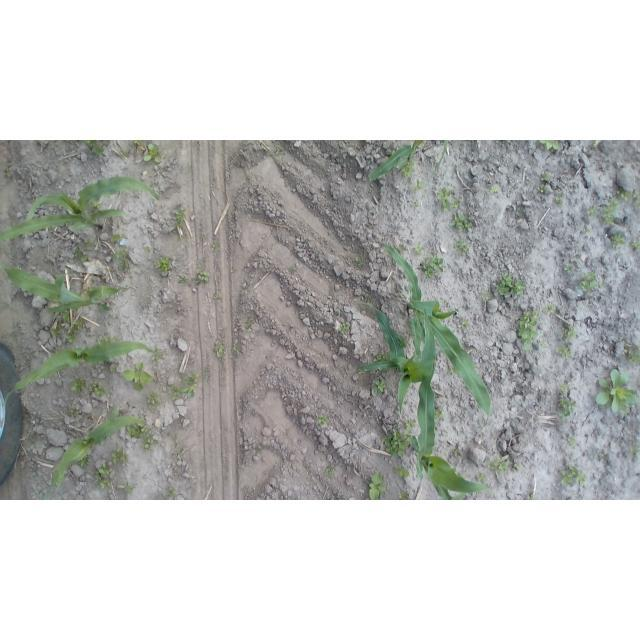Maize: (380, 243, 492, 429), (412, 348, 492, 500), (0, 176, 160, 243), (42, 406, 147, 500), (354, 300, 437, 415), (4, 341, 153, 403), (0, 263, 128, 313), (367, 141, 447, 182), (75, 141, 105, 154)
Weeds: (596, 369, 639, 415), (381, 427, 411, 458), (123, 362, 153, 392), (519, 310, 540, 351), (577, 271, 607, 293), (496, 274, 526, 296), (363, 472, 386, 500), (422, 252, 445, 280), (560, 464, 589, 485), (437, 187, 459, 212), (177, 373, 198, 398), (601, 197, 619, 226), (487, 455, 509, 477), (451, 212, 474, 233), (114, 244, 131, 272), (94, 463, 110, 489), (558, 398, 576, 421), (623, 340, 640, 364), (127, 422, 150, 438), (143, 143, 162, 162), (156, 255, 173, 276), (90, 380, 109, 398), (557, 325, 576, 343), (70, 376, 86, 397), (142, 433, 158, 451), (111, 448, 129, 464), (539, 140, 560, 152), (174, 209, 186, 230), (402, 158, 414, 178), (172, 433, 182, 457), (74, 247, 89, 262), (196, 269, 211, 284), (86, 200, 102, 214), (455, 240, 469, 256), (151, 346, 163, 364), (556, 345, 571, 359), (372, 379, 386, 394), (610, 234, 626, 247), (70, 318, 85, 331), (404, 419, 416, 435), (412, 179, 426, 192), (617, 189, 632, 201), (168, 385, 180, 400), (372, 352, 390, 362), (111, 232, 127, 243), (148, 392, 159, 408), (124, 482, 137, 495), (98, 336, 119, 344), (413, 241, 425, 255), (435, 407, 446, 422), (395, 467, 410, 478), (84, 284, 97, 296), (554, 192, 564, 207), (51, 324, 63, 336), (78, 455, 90, 467), (316, 414, 328, 426), (633, 189, 640, 209), (559, 382, 570, 394), (339, 322, 350, 334), (62, 308, 71, 322), (215, 343, 224, 357), (477, 473, 488, 484), (274, 145, 285, 156), (448, 365, 460, 375), (324, 466, 334, 478), (459, 320, 470, 330), (587, 207, 597, 218), (65, 333, 76, 343), (395, 243, 405, 254), (630, 442, 639, 454), (545, 303, 555, 313), (70, 405, 79, 416), (568, 436, 577, 447), (565, 264, 575, 273), (630, 240, 640, 249), (537, 184, 547, 193), (166, 488, 176, 497), (110, 363, 118, 374), (398, 492, 409, 500), (180, 275, 189, 284), (490, 186, 500, 194), (84, 238, 92, 248), (232, 345, 240, 355), (541, 172, 549, 181), (482, 291, 490, 300), (245, 319, 252, 329), (204, 370, 210, 381), (118, 150, 129, 156), (458, 472, 466, 480), (355, 257, 363, 265), (455, 449, 462, 458), (540, 341, 549, 348), (365, 296, 372, 305), (188, 163, 196, 170), (212, 241, 217, 252), (130, 141, 141, 146), (213, 295, 219, 304), (591, 140, 597, 148), (513, 463, 521, 469), (585, 228, 592, 234), (358, 368, 365, 374), (572, 254, 580, 259), (182, 233, 188, 239), (413, 201, 419, 207), (527, 494, 533, 500), (2, 166, 9, 171), (146, 246, 151, 252), (178, 201, 183, 206), (329, 494, 335, 498), (177, 239, 181, 244), (444, 298, 449, 302), (460, 233, 465, 237), (518, 213, 523, 217), (334, 290, 338, 293), (507, 141, 511, 144), (555, 498, 560, 500)
